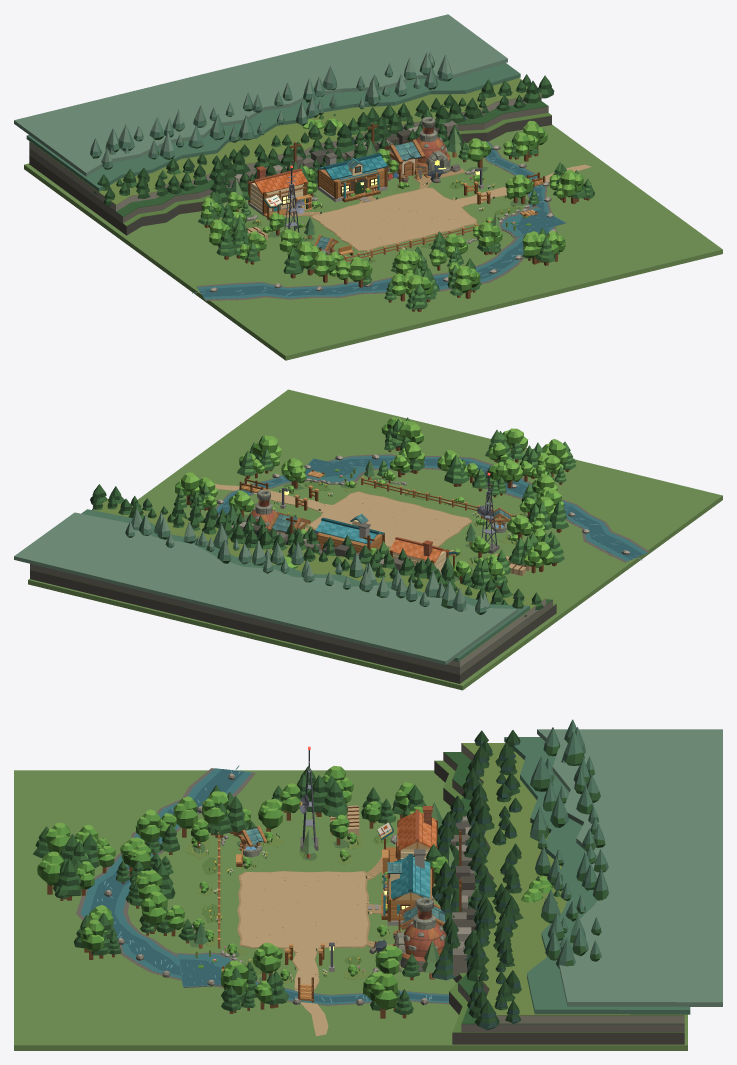
The model's file is scene-farm.glb.
The picture shows the model from 3 angles, top to bottom: view 1: azimuth 30°, elevation 25°; view 2: azimuth 150°, elevation 25°; view 3: azimuth 270°, elevation 25°; orthographic projection. The views are drawn at different scales.
Parts seen in each view (by area): view 1: Meadow, DistantRidge.001, DistantRidge, TampedEarth, RidgeMoss.002, building_blacksmith_blue, StreamChannel, FoothillLedge, RiverShallows, FoothillLedge.001, RidgeMoss.001, FoothillLedge.002 (+4 smaller); view 2: Meadow, DistantRidge.001, FoothillLedge, TampedEarth, FoothillLedge.001, RidgeMoss.002, DistantRidge, StreamChannel, RiverShallows, building_blacksmith_blue, FoothillLedge.002, GravelBank (+3 smaller); view 3: Meadow, DistantRidge.001, TampedEarth, RidgeMoss.002, DistantRidge, FoothillLedge, StreamChannel, RiverShallows, building_blacksmith_blue, FoothillLedge.001, FoothillLedge.002, RidgeMoss.001 (+6 smaller).
Part boxes in pixels (bbox=[...]): Meadow: bbox=[24, 124, 722, 360]; DistantRidge.001: bbox=[14, 14, 507, 176]; DistantRidge: bbox=[26, 63, 520, 191]; TampedEarth: bbox=[312, 187, 506, 250]; RidgeMoss.002: bbox=[29, 78, 541, 204]; building_blacksmith_blue: bbox=[384, 117, 460, 183]; StreamChannel: bbox=[199, 149, 548, 296]; FoothillLedge: bbox=[29, 116, 551, 235]; RiverShallows: bbox=[197, 141, 553, 299]; FoothillLedge.001: bbox=[29, 106, 548, 223]; RidgeMoss.001: bbox=[29, 101, 548, 216]; FoothillLedge.002: bbox=[29, 94, 541, 211]; Meadow: bbox=[28, 389, 722, 690]; DistantRidge.001: bbox=[14, 512, 517, 664]; FoothillLedge: bbox=[30, 570, 556, 683]; TampedEarth: bbox=[269, 490, 470, 546]; FoothillLedge.001: bbox=[30, 564, 552, 674]; RidgeMoss.002: bbox=[93, 498, 545, 661]; DistantRidge: bbox=[81, 509, 529, 661]; StreamChannel: bbox=[218, 458, 643, 559]; RiverShallows: bbox=[216, 455, 647, 561]; building_blacksmith_blue: bbox=[245, 489, 310, 533]; FoothillLedge.002: bbox=[447, 599, 545, 667]; GravelBank: bbox=[204, 454, 649, 562]; Meadow: bbox=[14, 770, 687, 1050]; DistantRidge.001: bbox=[537, 729, 722, 1006]; TampedEarth: bbox=[239, 871, 367, 988]; RidgeMoss.002: bbox=[461, 743, 684, 1015]; DistantRidge: bbox=[504, 737, 690, 1014]; FoothillLedge: bbox=[434, 761, 684, 1044]; StreamChannel: bbox=[90, 769, 448, 1002]; RiverShallows: bbox=[80, 768, 448, 1004]; building_blacksmith_blue: bbox=[369, 897, 446, 971]; FoothillLedge.001: bbox=[443, 753, 684, 1032]; FoothillLedge.002: bbox=[461, 744, 684, 1023]; RidgeMoss.001: bbox=[443, 752, 684, 1024].
Size of the model in its own units: 48.03 by 8.14 by 49.89.
Materials: 103 (9 with a texture image).
